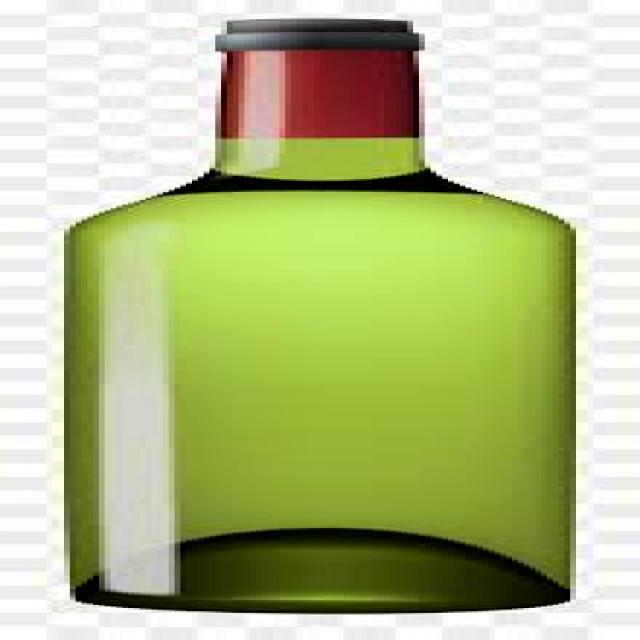Glass: (50, 14, 603, 616)
